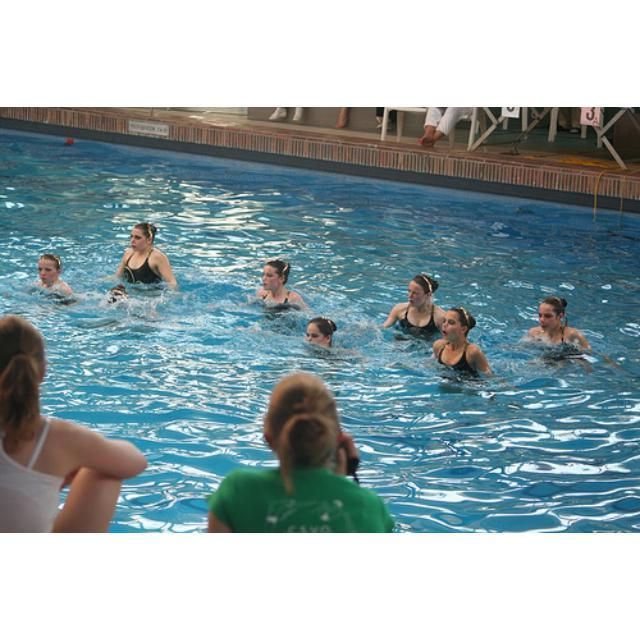human: (111, 221, 183, 299), (384, 274, 453, 345), (435, 306, 493, 381), (527, 293, 592, 357), (257, 255, 306, 315), (29, 248, 73, 295), (306, 314, 341, 354)
